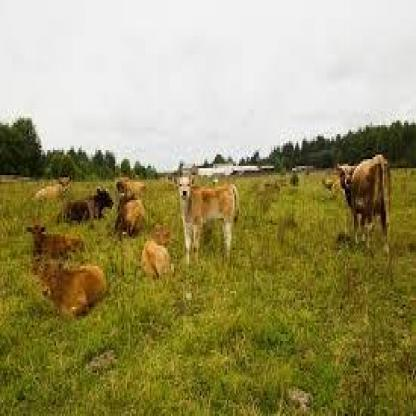cow: (172, 169, 240, 270), (336, 154, 392, 254), (30, 257, 109, 318), (54, 186, 113, 228), (26, 224, 86, 260), (139, 228, 174, 278), (115, 198, 147, 236), (34, 174, 72, 203), (115, 176, 148, 199)
